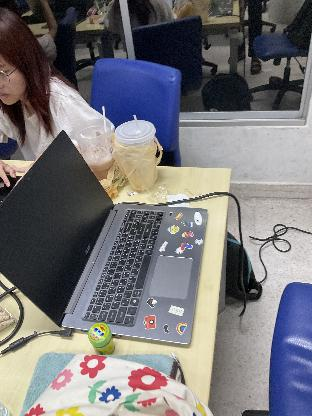Plastic Cup: (118, 119, 158, 188)
